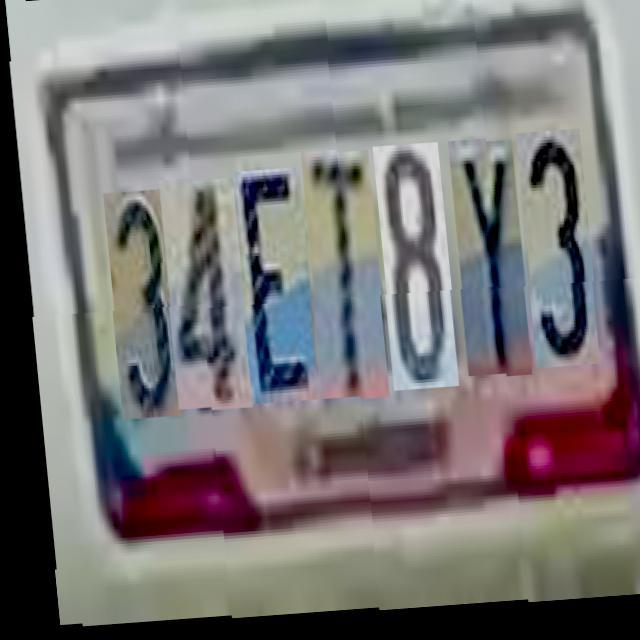3: (510, 128, 591, 368), (97, 192, 174, 420)
4: (153, 179, 244, 412)
8: (367, 143, 450, 390)
E: (227, 168, 310, 404)
T: (295, 150, 380, 400)
Y: (442, 138, 523, 378)
